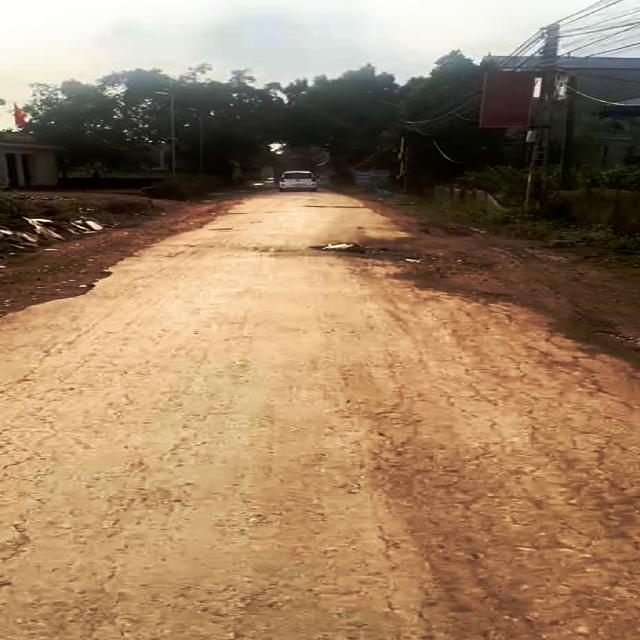pothole: (315, 241, 393, 260)
